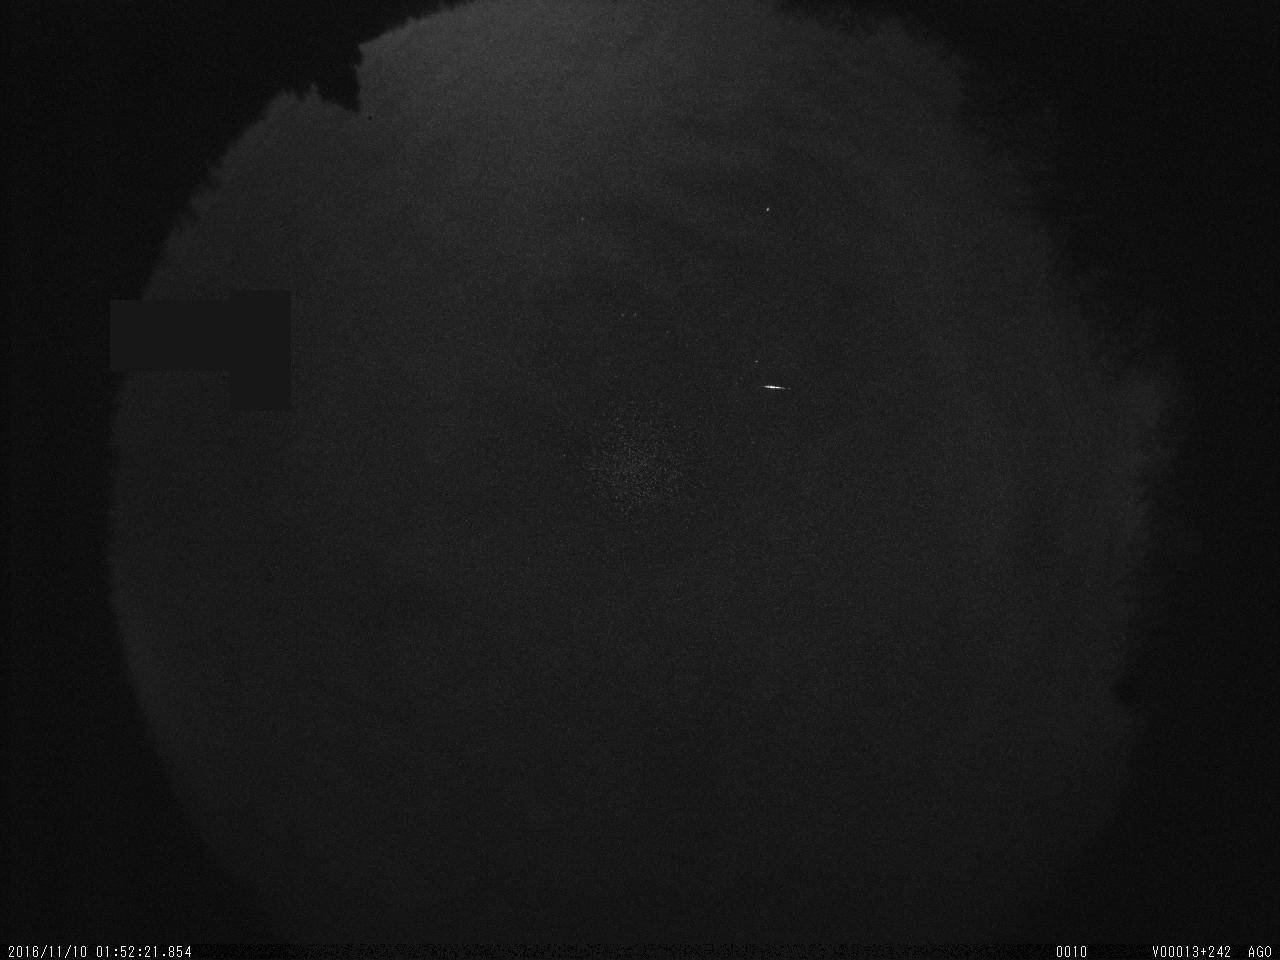meteor: (753, 355, 785, 407)
